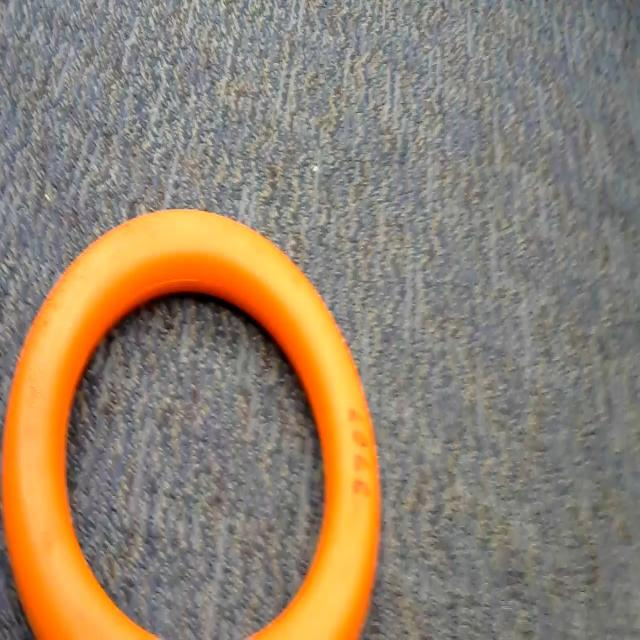note: (0, 197, 394, 640)
